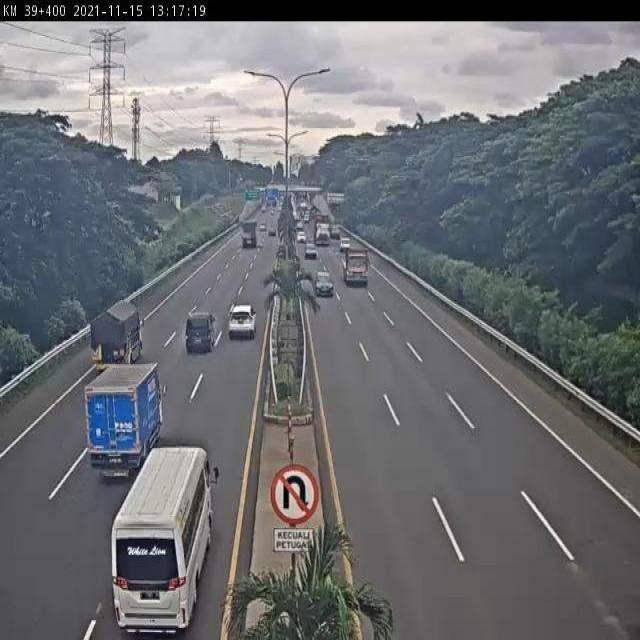bus-s-: (112, 446, 214, 640)
car: (183, 309, 216, 355), (227, 301, 259, 340), (313, 269, 336, 300)
truck-l-: (341, 241, 371, 287)
truck-m-: (85, 360, 165, 480), (89, 300, 143, 372)
